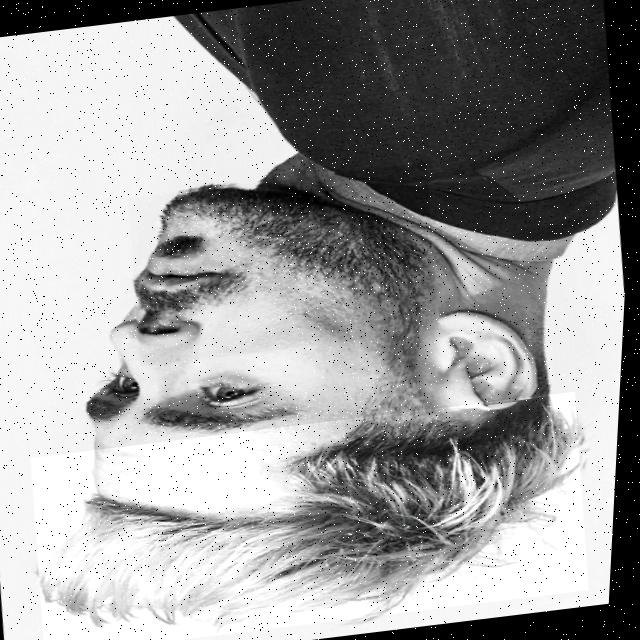beard: (137, 185, 437, 334)
hair: (45, 397, 582, 625)
